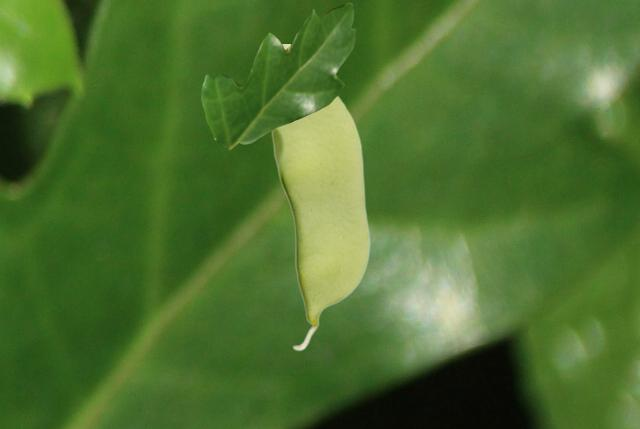pea: (269, 44, 369, 350)
